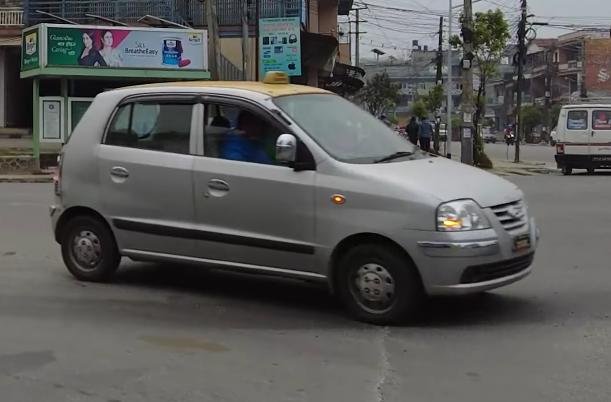taxi: (42, 78, 540, 329)
